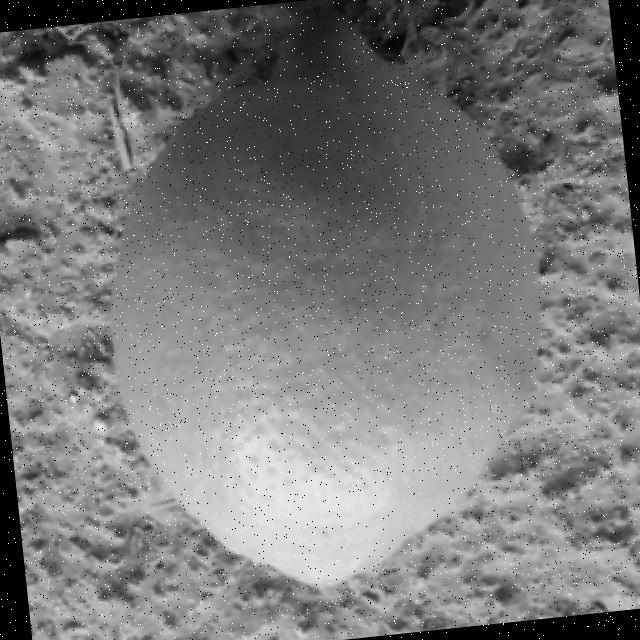Ripe: (75, 0, 576, 615)
